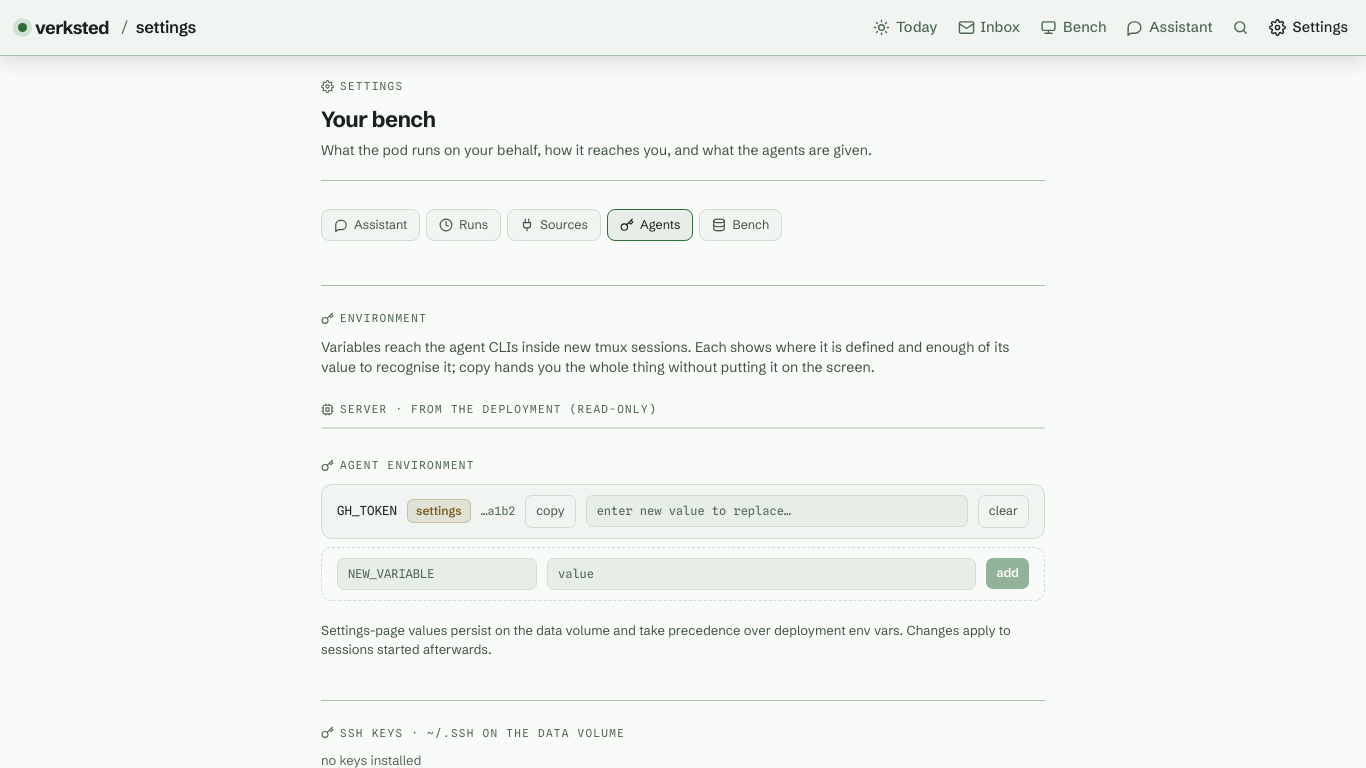
it: a stored credential › is not removed by one tap
Click the button "clear": (1003, 511) [978,495,1029,528]
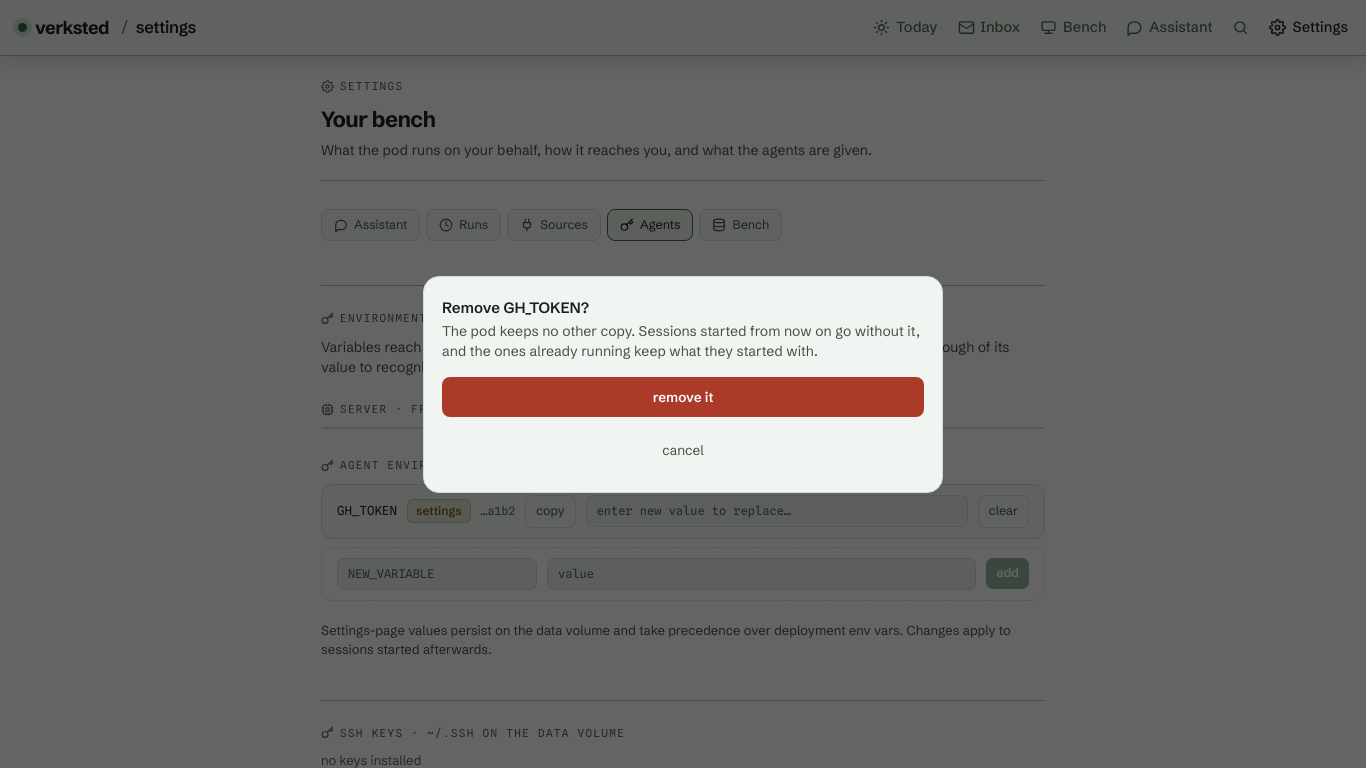
Click the button "cancel": (683, 450) [442,429,924,472]
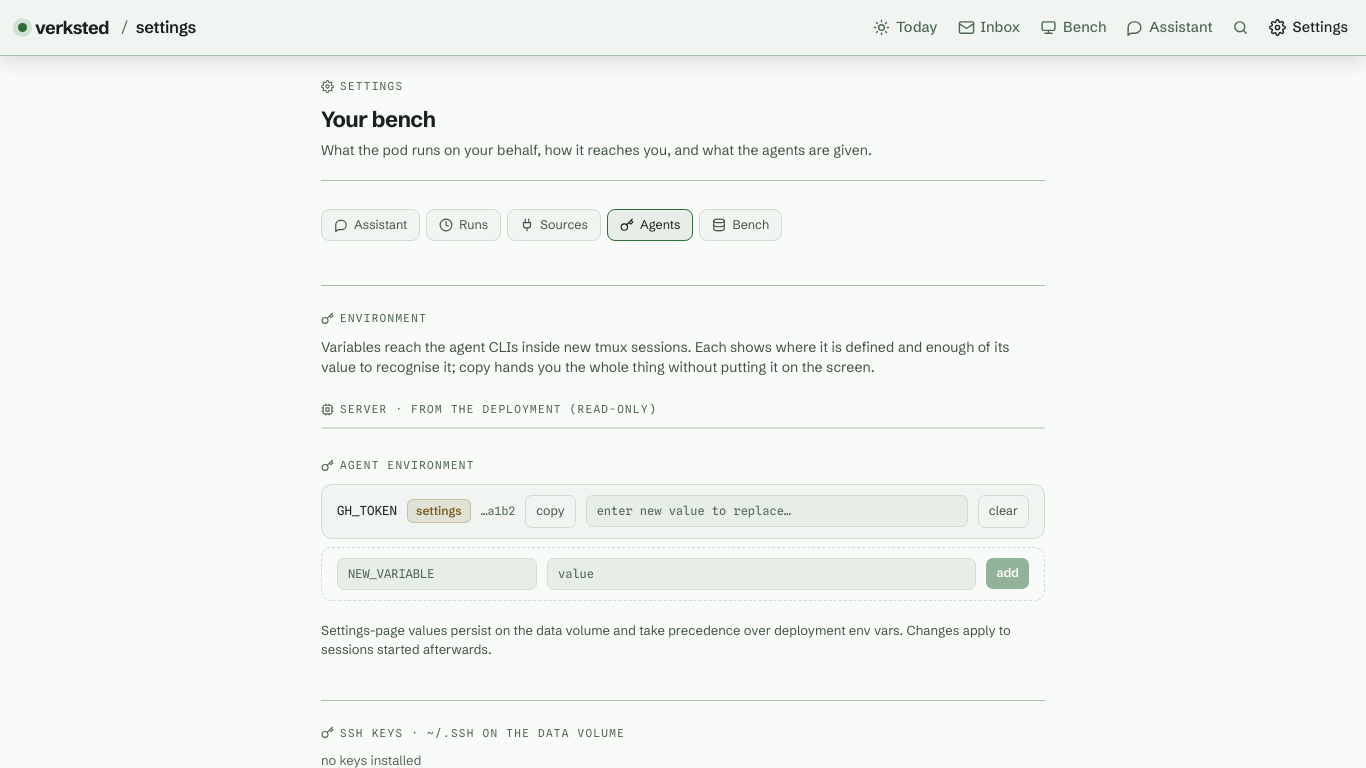
Now the dialog is gone
